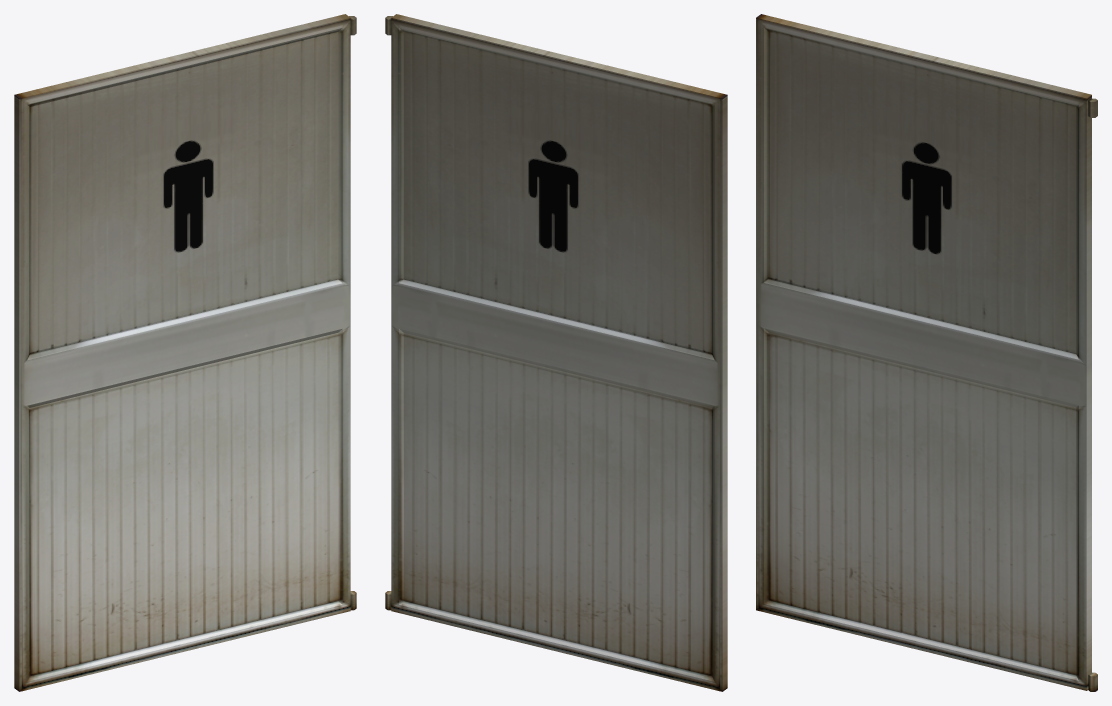
The model's file is door_f.fbx.
The picture shows the model from 3 angles, left to right: view 1: azimuth 30°, elevation 25°; view 2: azimuth 150°, elevation 25°; view 3: azimuth 330°, elevation 25°; orthographic projection.
Visible parts, largest first — view 1: door_f; view 2: door_f; view 3: door_f.
Boxes of the visible parts, left/top/right/bottom form: door_f: left=14, top=14, right=356, bottom=691; door_f: left=385, top=14, right=727, bottom=691; door_f: left=756, top=14, right=1097, bottom=691.
Size of the model in its own units: 2.16 by 3.63 by 0.0568.
